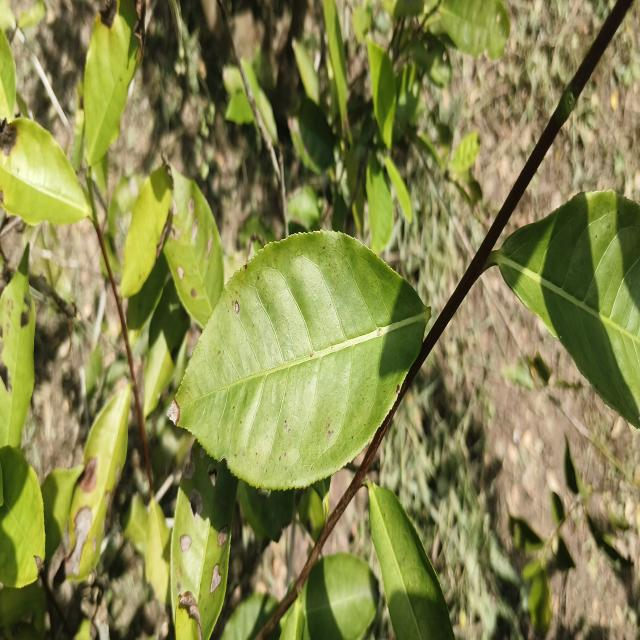Leaf: (170, 231, 430, 489), (487, 190, 640, 427), (368, 483, 454, 640), (170, 443, 237, 640), (65, 385, 130, 581), (163, 165, 224, 325), (83, 0, 142, 165), (0, 118, 90, 224), (0, 245, 35, 447), (121, 166, 173, 298), (302, 553, 379, 640), (0, 446, 46, 587), (144, 279, 190, 417), (439, 0, 510, 59), (126, 254, 168, 346), (288, 97, 335, 173), (323, 0, 348, 131), (367, 36, 396, 148), (145, 499, 171, 603), (366, 153, 393, 253), (221, 593, 277, 640), (409, 34, 452, 87), (385, 156, 412, 222), (292, 39, 319, 104), (122, 494, 148, 554), (564, 436, 588, 500), (528, 569, 551, 634), (0, 29, 16, 122), (288, 185, 321, 230), (448, 132, 480, 174), (396, 65, 419, 122), (509, 515, 543, 551), (225, 91, 254, 124), (85, 344, 102, 398), (501, 362, 534, 389), (18, 0, 46, 29), (554, 537, 576, 571)
